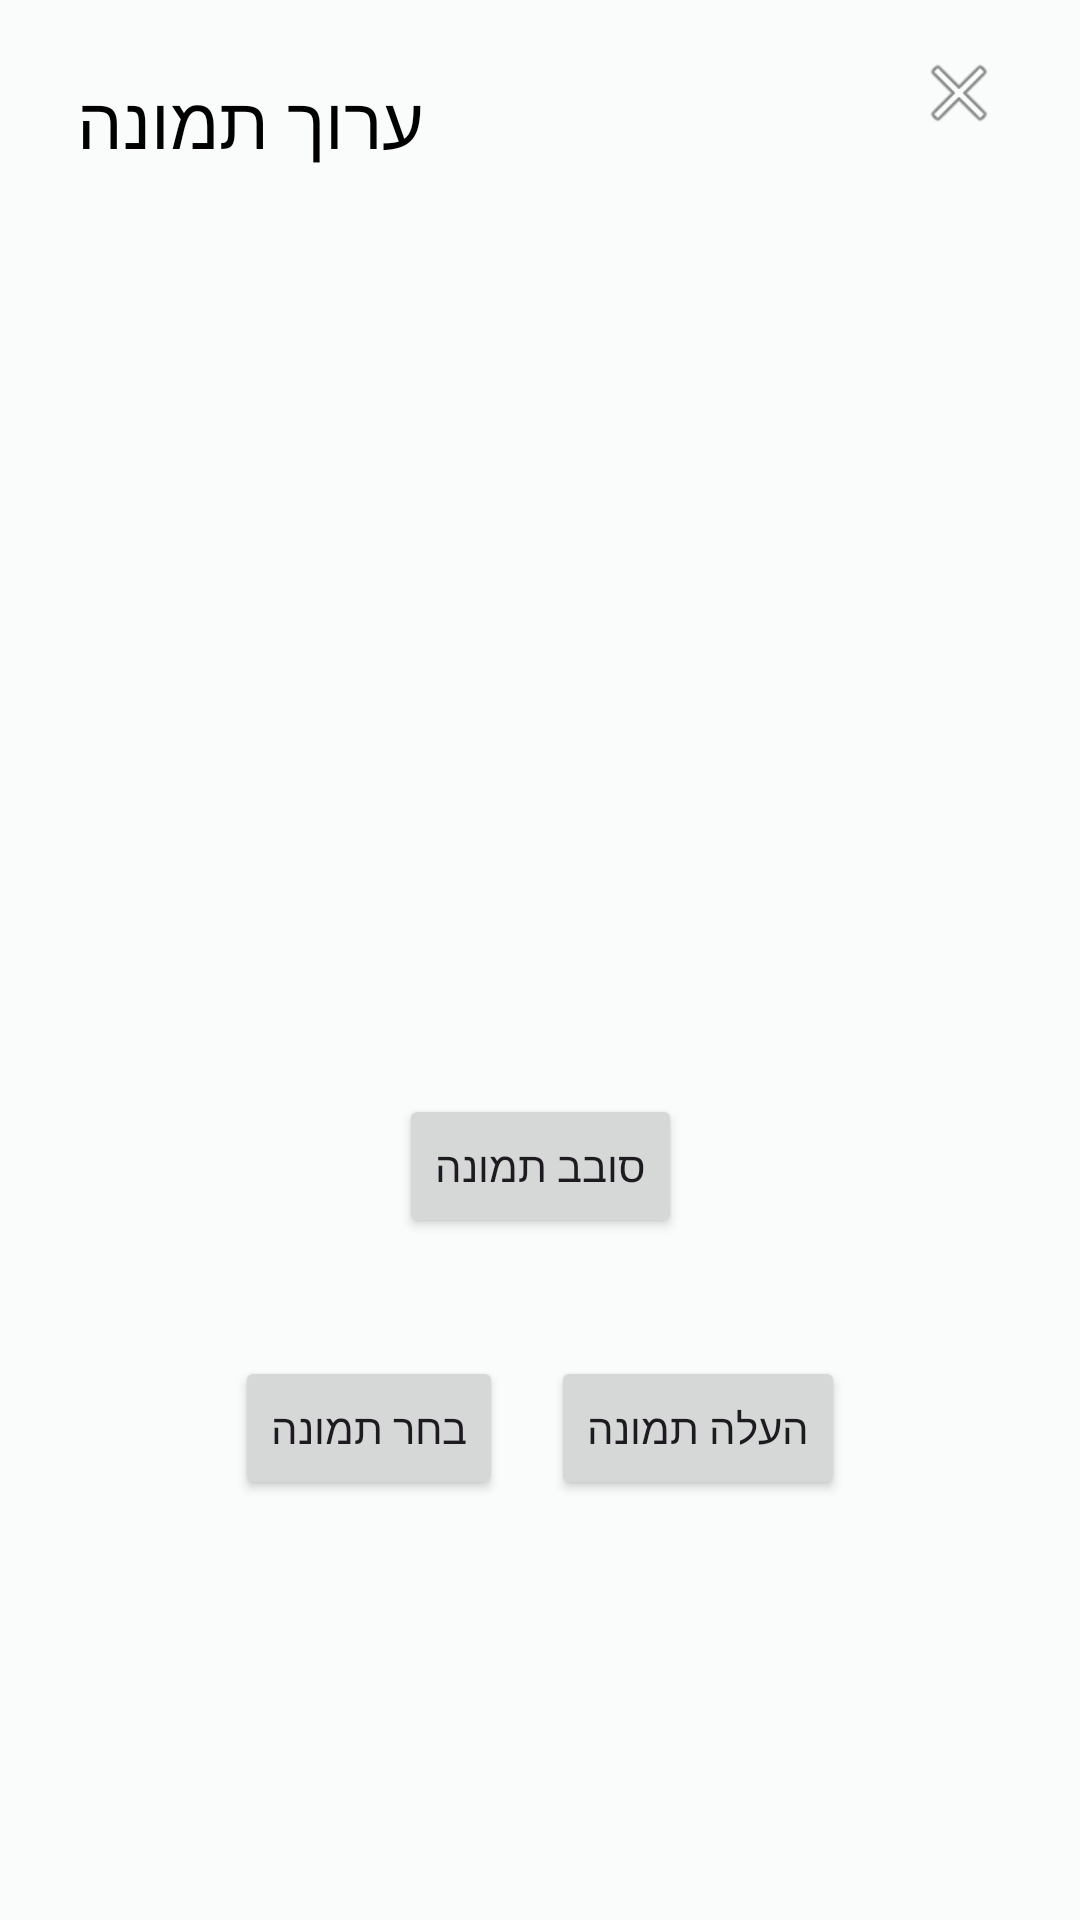

Named icons in this screenshot (1080px×1920px) and their bounding boxes, {"x1": x1, "y1": y1, "x2": x2, "y2": y2}:
close clear cancel: {"x1": 931, "y1": 65, "x2": 987, "y2": 121}
